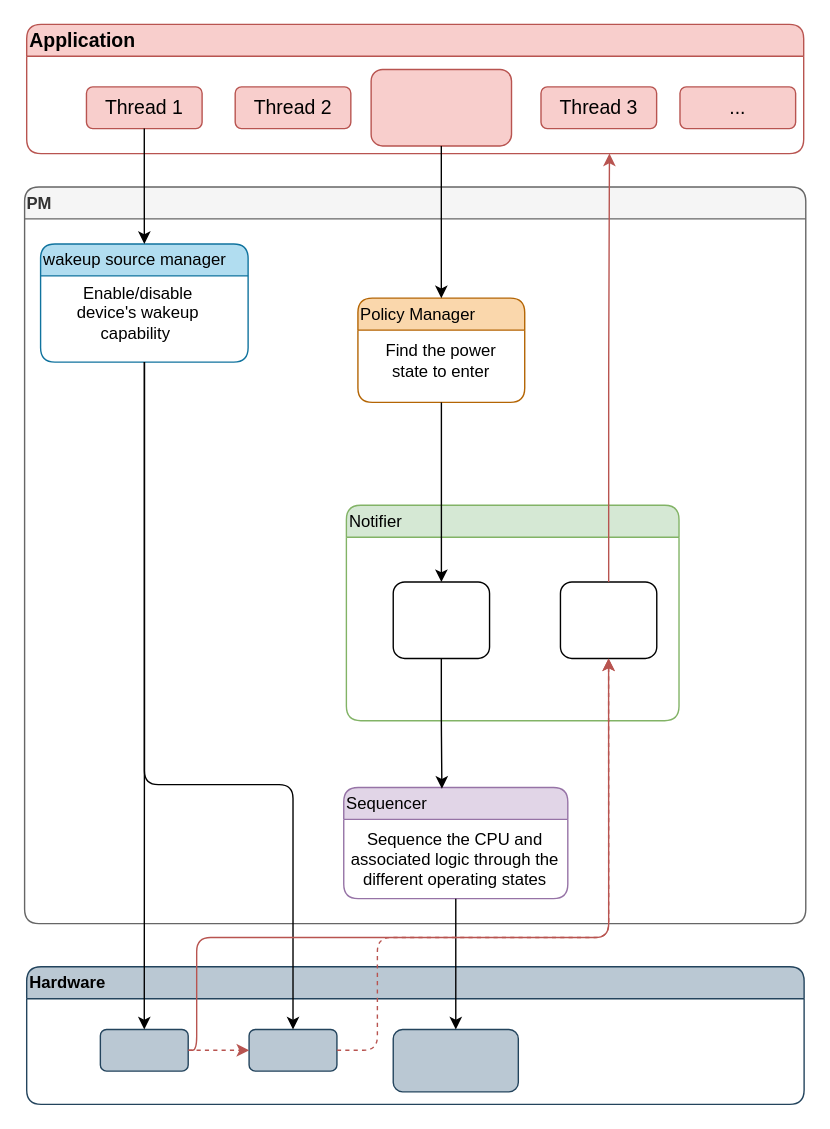
Image size: 830x1129. Some labels were removed from this diagram. The centre of each missing label's shape, as x and y in pixels:
"Idle Thread" belongs at pixel 441 107.
"notify application power state entry" belongs at pixel 441 619.
"notify application power state exit" belongs at pixel 608 619.
"power related peripherals" belongs at pixel 455 1060.
"wakeup generator" belongs at pixel 292 1049.
"wakeup peripherals" belongs at pixel 143 1049.
